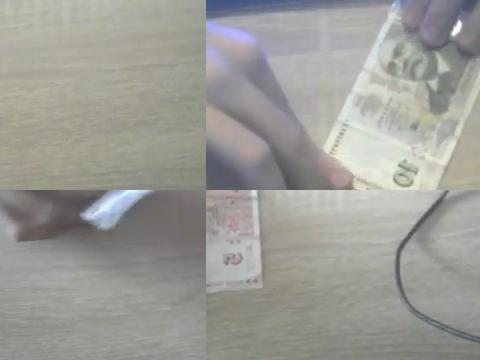10leva: (323, 0, 480, 190)
20leva: (81, 190, 155, 231)
5leva: (206, 190, 265, 295)
